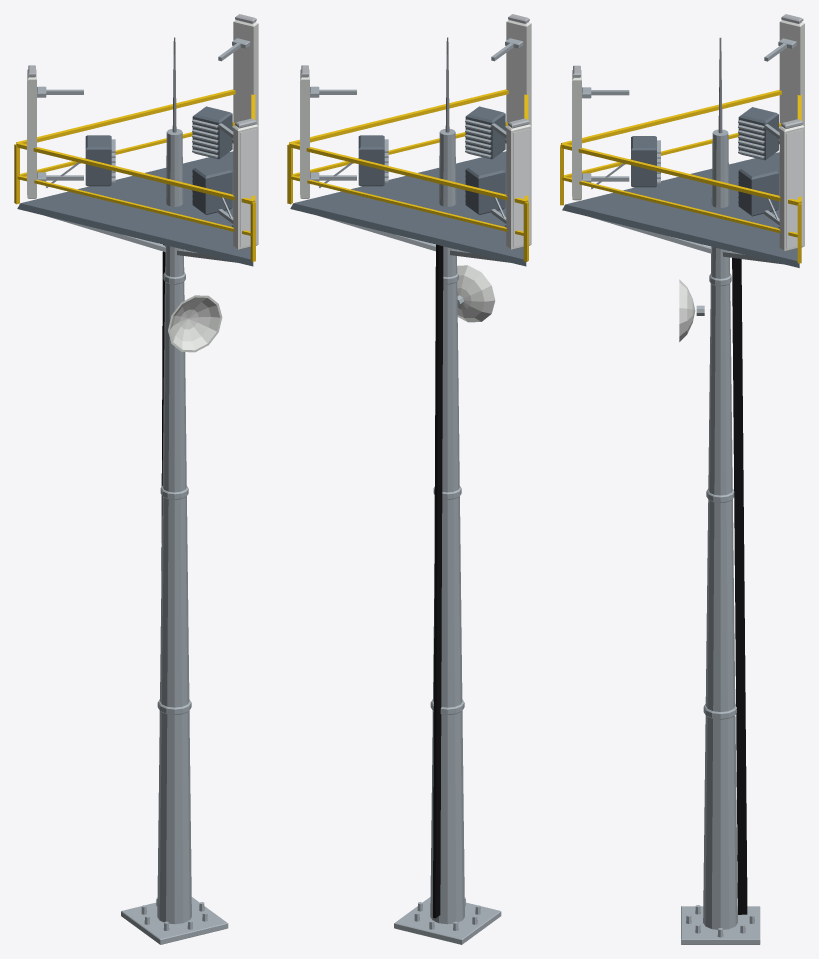
Rendered from UTILITY_10.obj.
3 views of the same model, side by side, from view 1: azimuth 30°, elevation 25°; view 2: azimuth 150°, elevation 25°; view 3: azimuth 270°, elevation 25° (orthographic).
Parts seen in each view (by area): view 1: UTILITY_10__mast, UTILITY_10__platform, UTILITY_10__antenna, UTILITY_10__platform_rail, UTILITY_10__rru, UTILITY_10__base, UTILITY_10__mw_dish, UTILITY_10__antenna_face, UTILITY_10__rru_fins, UTILITY_10__arm, UTILITY_10__platform_brace, UTILITY_10__flange (+2 smaller); view 2: UTILITY_10__mast, UTILITY_10__platform, UTILITY_10__cable_ladder, UTILITY_10__antenna, UTILITY_10__platform_rail, UTILITY_10__rru, UTILITY_10__base, UTILITY_10__antenna_face, UTILITY_10__mw_dish, UTILITY_10__rru_fins, UTILITY_10__arm, UTILITY_10__platform_brace (+2 smaller); view 3: UTILITY_10__mast, UTILITY_10__platform, UTILITY_10__cable_ladder, UTILITY_10__antenna, UTILITY_10__platform_rail, UTILITY_10__rru, UTILITY_10__base, UTILITY_10__antenna_face, UTILITY_10__rru_fins, UTILITY_10__arm, UTILITY_10__platform_brace, UTILITY_10__flange (+2 smaller).
Boxes of the visible parts, x1=… form: UTILITY_10__mast: x1=157, y1=129, x2=191, y2=924; UTILITY_10__platform: x1=17, y1=151, x2=253, y2=266; UTILITY_10__antenna: x1=27, y1=20, x2=258, y2=249; UTILITY_10__platform_rail: x1=16, y1=89, x2=255, y2=235; UTILITY_10__rru: x1=85, y1=106, x2=232, y2=214; UTILITY_10__base: x1=121, y1=897, x2=228, y2=944; UTILITY_10__mw_dish: x1=168, y1=295, x2=222, y2=352; UTILITY_10__antenna_face: x1=27, y1=73, x2=256, y2=246; UTILITY_10__rru_fins: x1=111, y1=119, x2=218, y2=201; UTILITY_10__arm: x1=46, y1=43, x2=240, y2=223; UTILITY_10__platform_brace: x1=46, y1=216, x2=237, y2=262; UTILITY_10__flange: x1=157, y1=272, x2=191, y2=714; UTILITY_10__mast: x1=430, y1=129, x2=464, y2=924; UTILITY_10__platform: x1=290, y1=151, x2=526, y2=266; UTILITY_10__cable_ladder: x1=433, y1=244, x2=443, y2=918; UTILITY_10__antenna: x1=300, y1=20, x2=531, y2=249; UTILITY_10__platform_rail: x1=289, y1=89, x2=528, y2=235; UTILITY_10__rru: x1=358, y1=106, x2=505, y2=214; UTILITY_10__base: x1=394, y1=897, x2=501, y2=944; UTILITY_10__antenna_face: x1=300, y1=73, x2=529, y2=246; UTILITY_10__mw_dish: x1=457, y1=265, x2=495, y2=322; UTILITY_10__rru_fins: x1=384, y1=119, x2=491, y2=201; UTILITY_10__arm: x1=319, y1=43, x2=513, y2=223; UTILITY_10__platform_brace: x1=319, y1=216, x2=510, y2=262; UTILITY_10__mast: x1=703, y1=129, x2=737, y2=929; UTILITY_10__platform: x1=562, y1=152, x2=799, y2=267; UTILITY_10__cable_ladder: x1=732, y1=258, x2=747, y2=914; UTILITY_10__antenna: x1=572, y1=20, x2=804, y2=251; UTILITY_10__platform_rail: x1=561, y1=90, x2=801, y2=237; UTILITY_10__rru: x1=631, y1=107, x2=778, y2=216; UTILITY_10__base: x1=681, y1=905, x2=760, y2=944; UTILITY_10__antenna_face: x1=572, y1=73, x2=802, y2=248; UTILITY_10__rru_fins: x1=657, y1=120, x2=764, y2=202; UTILITY_10__arm: x1=591, y1=43, x2=786, y2=225; UTILITY_10__platform_brace: x1=591, y1=217, x2=782, y2=264; UTILITY_10__flange: x1=703, y1=274, x2=736, y2=719.
Bounding box in the file's own units: 3.51 × 12.4 × 3.09.
